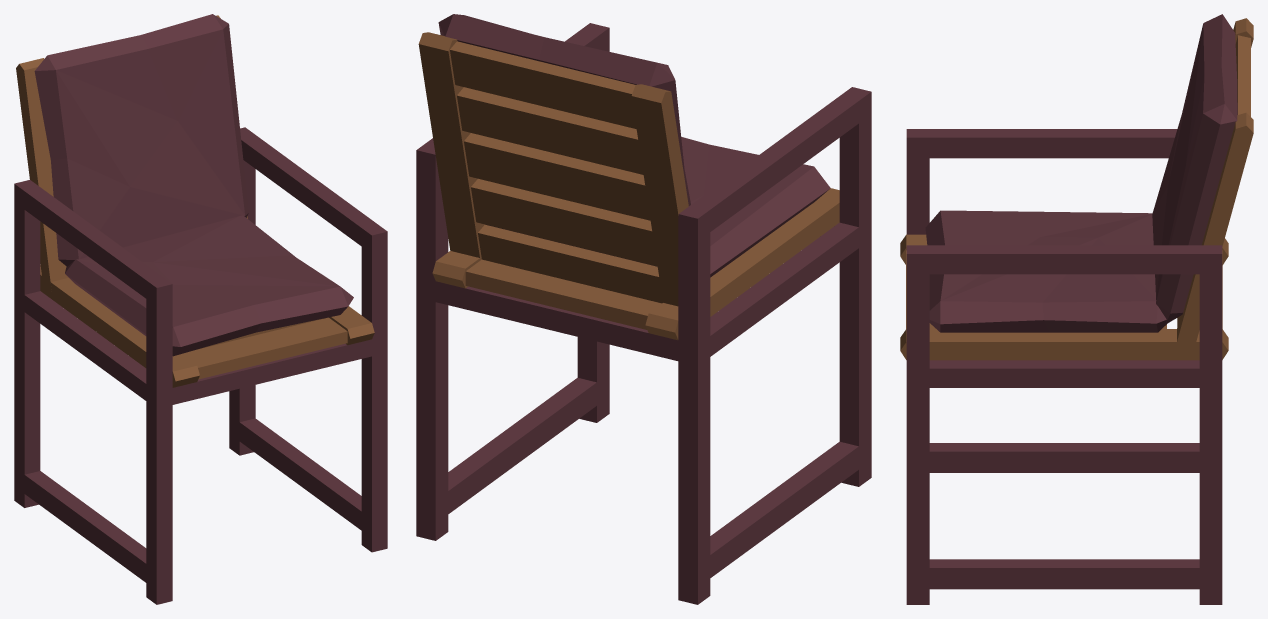
The model's file is furniture-chair-outside-modern-cusion.glb.
3 views of the same model, side by side, from view 1: azimuth 30°, elevation 25°; view 2: azimuth 150°, elevation 25°; view 3: azimuth 270°, elevation 25° (orthographic). The views are drawn at different scales.
Parts seen in each view (by area): view 1: chair-outside-modern-cusion; view 2: chair-outside-modern-cusion; view 3: chair-outside-modern-cusion.
Part boxes in pixels (bbox=[...]): chair-outside-modern-cusion: bbox=[14, 14, 387, 604]; chair-outside-modern-cusion: bbox=[416, 14, 871, 604]; chair-outside-modern-cusion: bbox=[900, 14, 1253, 604].
Size of the model in its own units: 0.58 by 1.05 by 0.6939.
